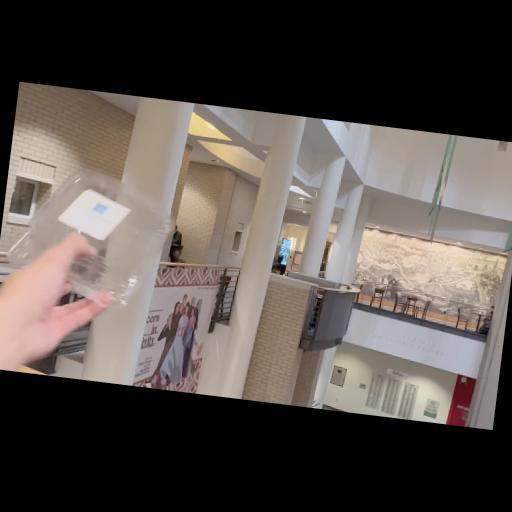small_plastic_container: (3, 161, 181, 317)
